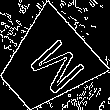M_SW: (13, 30, 80, 98)
